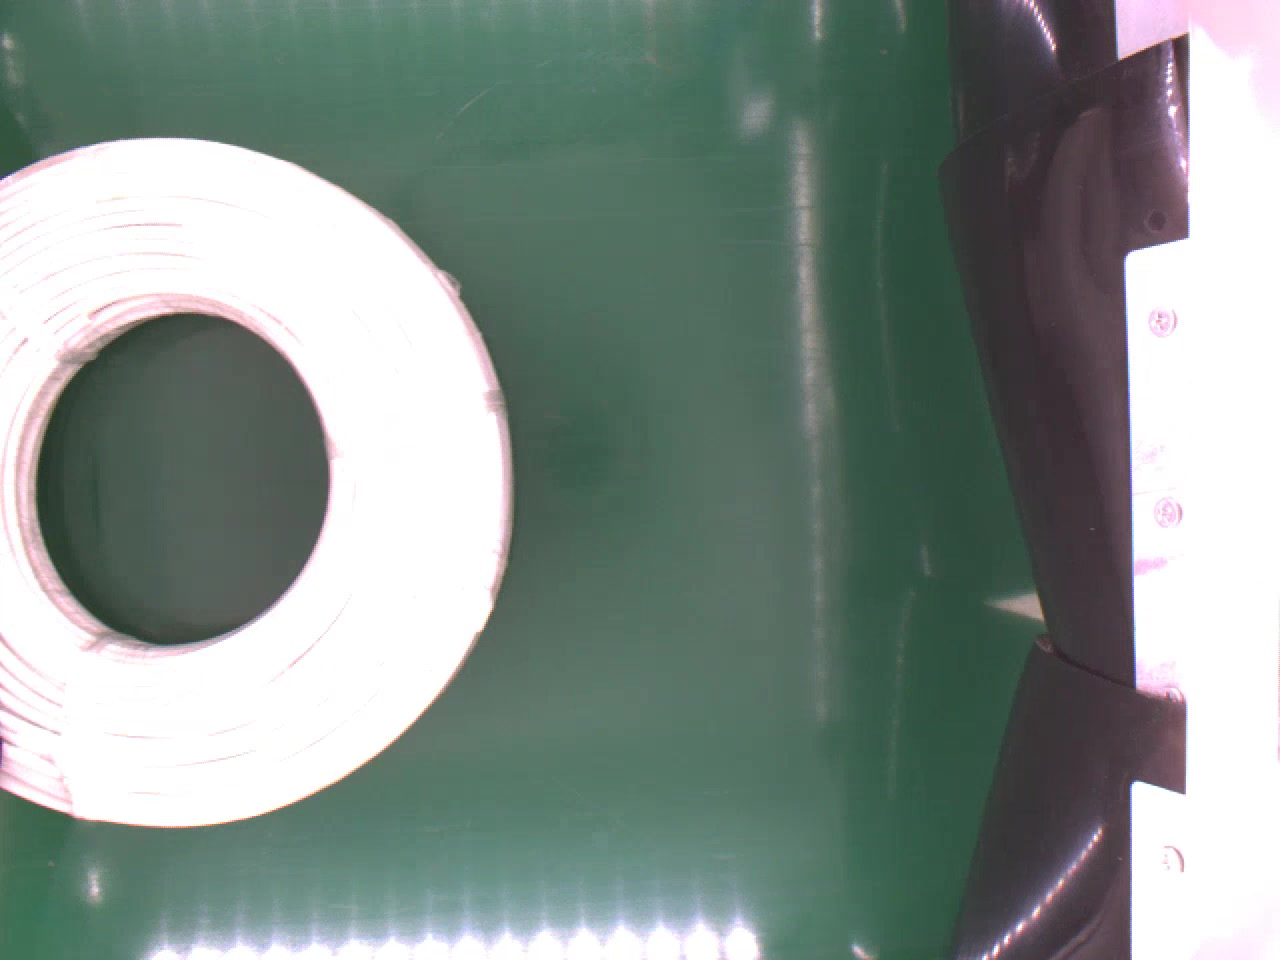white: (0, 130, 515, 829)
